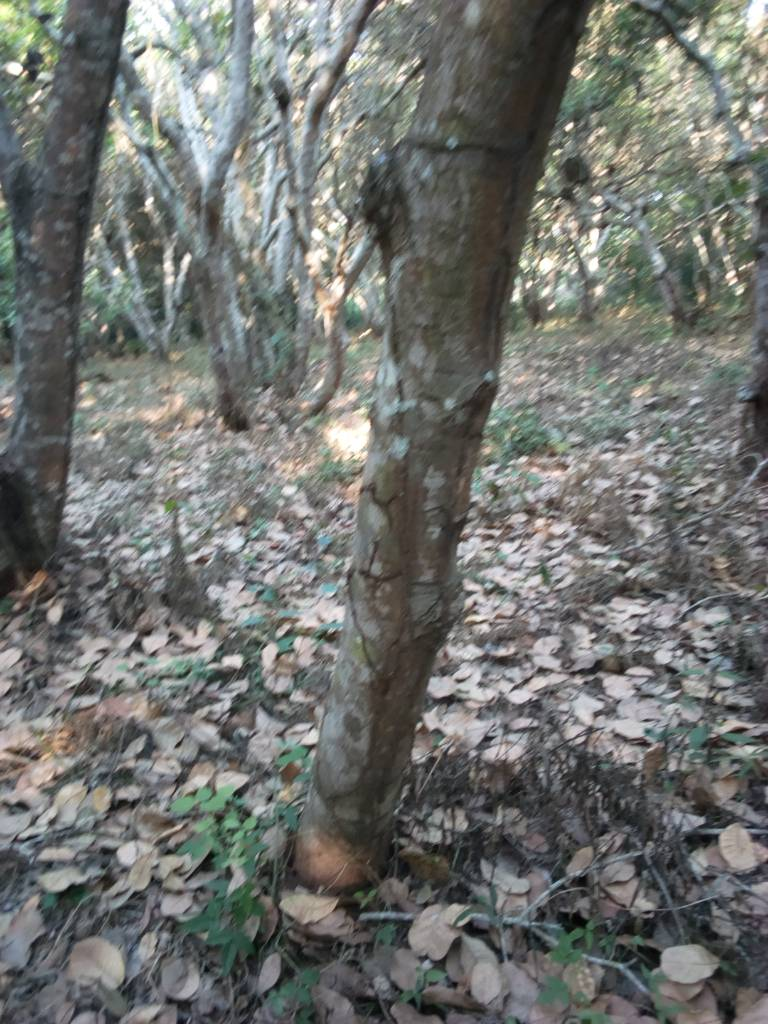Termites: (355, 492, 436, 844)
